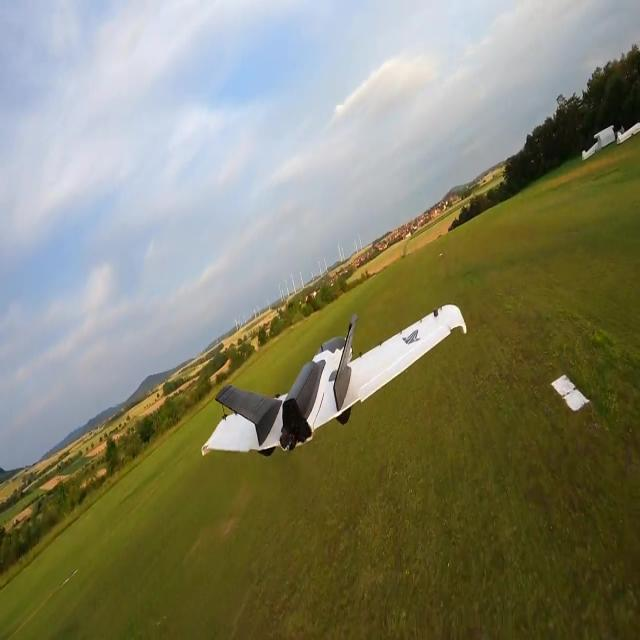iha: (198, 299, 467, 459)
